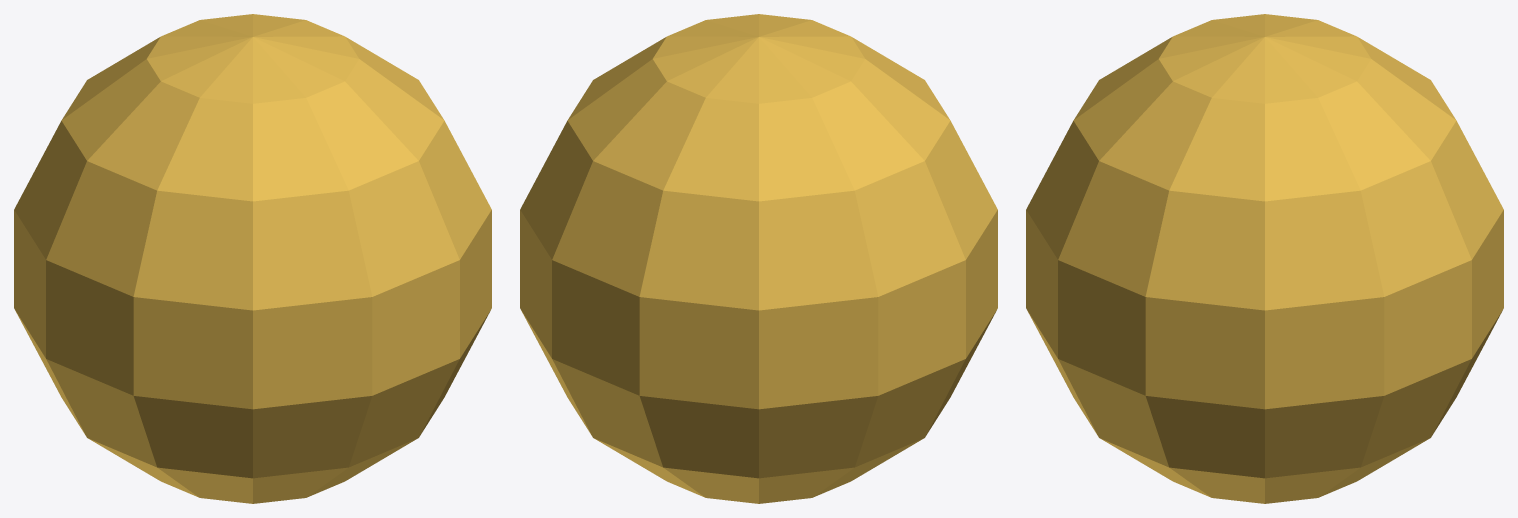
Rendered from berry 1.fbx.
3 renders of one model, left to right at view 1: azimuth 30°, elevation 25°; view 2: azimuth 150°, elevation 25°; view 3: azimuth 270°, elevation 25°, orthographic.
Visible parts, largest first — view 1: Sphere; view 2: Sphere; view 3: Sphere.
Boxes of the visible parts, <box> form: Sphere: <box>14,14,491,503</box>; Sphere: <box>520,14,997,503</box>; Sphere: <box>1026,14,1503,503</box>.
Bounding box in the file's own units: 195 × 200 × 195.
